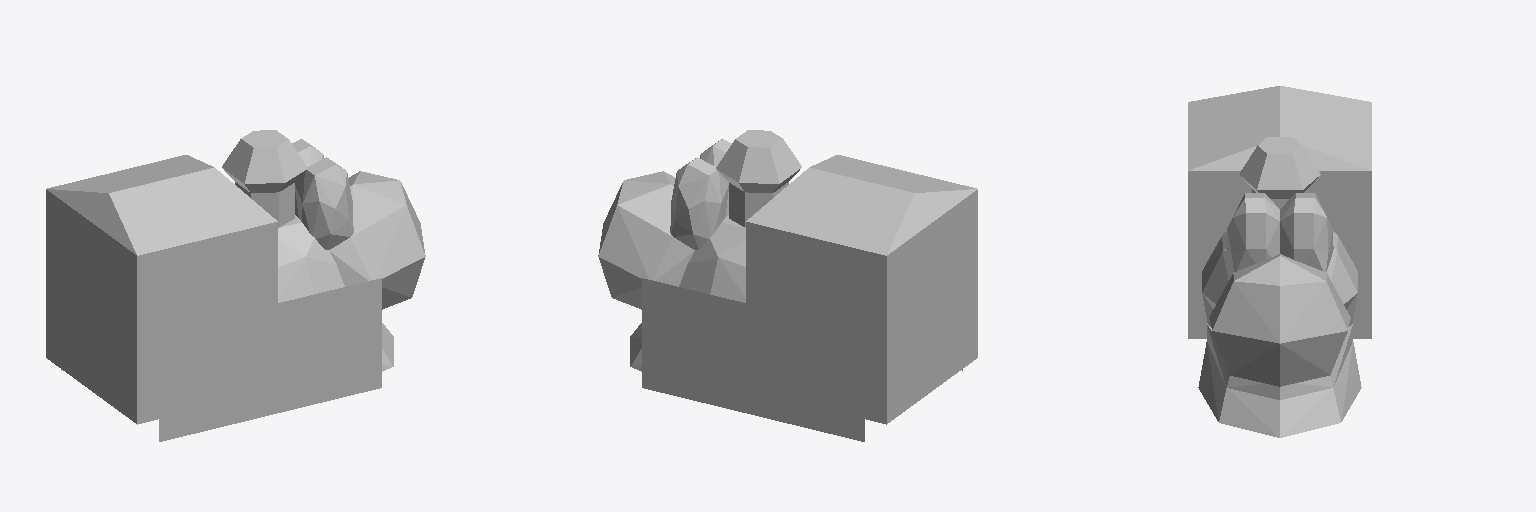
File: Yoshi Train.obj
The picture shows the model from 3 angles: view 1: azimuth 30°, elevation 25°; view 2: azimuth 150°, elevation 25°; view 3: azimuth 270°, elevation 25°; orthographic projection.
Visible parts, largest first — view 1: n0b0; view 2: n0b0; view 3: n0b0.
Part boxes in pixels (x1,y1,x2,y2): n0b0: (46, 130, 425, 441); n0b0: (598, 130, 977, 441); n0b0: (1188, 86, 1371, 437).
Bounding box in the file's own units: 2406 × 1606 × 1261.